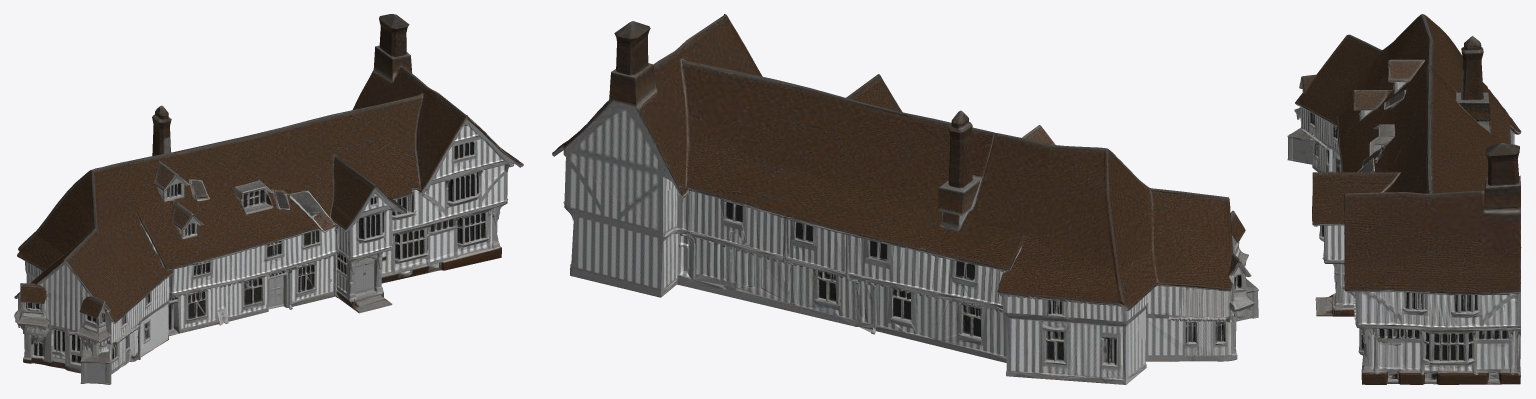
Rendered from guildhall_lavenham_a.meshy.reduced.glb.
3 renders of one model, left to right at view 1: azimuth 30°, elevation 25°; view 2: azimuth 150°, elevation 25°; view 3: azimuth 270°, elevation 25°, orthographic. The views are drawn at different scales.
Bounding box in the file's own units: 1.9 × 0.7585 × 0.7294.
Materials: 1 (1 with a texture image).
